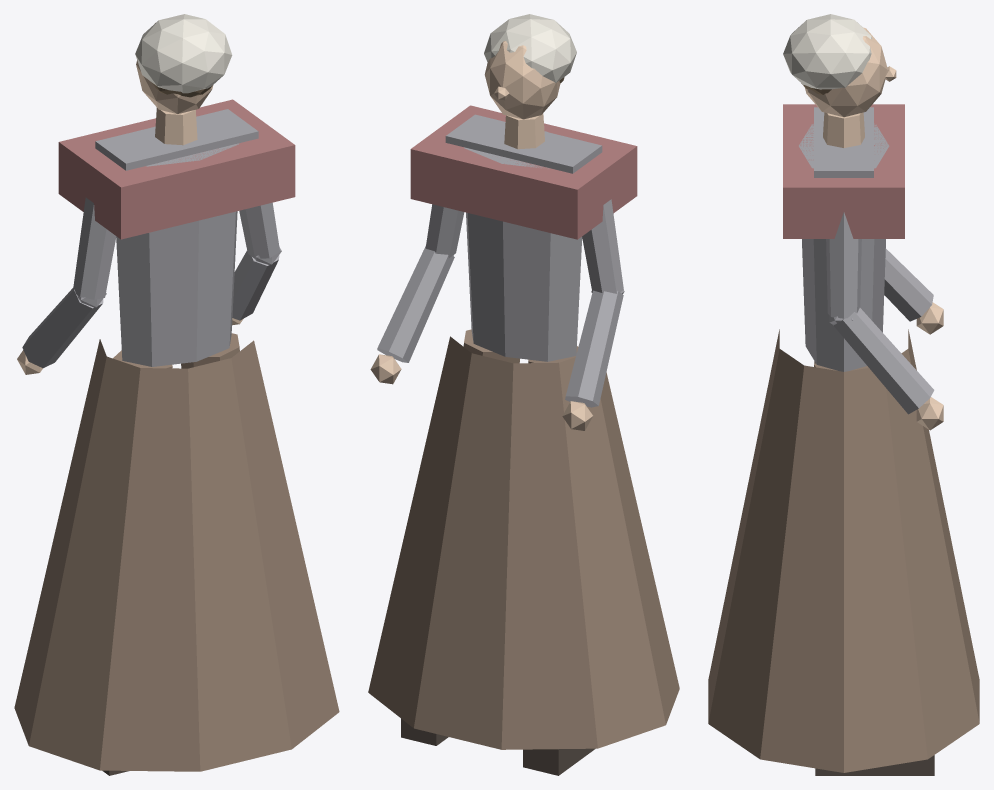
The model's file is townswoman_standing.glb.
The picture shows the model from 3 angles, left to right: view 1: azimuth 30°, elevation 25°; view 2: azimuth 150°, elevation 25°; view 3: azimuth 270°, elevation 25°; orthographic projection. The views are drawn at different scales.
Visible parts, largest first — view 1: skirt_brown, shawl_grey, shawl, linen, skin; view 2: skirt_brown, shawl_grey, shawl, skin, linen, boot; view 3: skirt_brown, shawl_grey, shawl, skin, linen, boot.
Boxes of the visible parts, x1,y1,x2,y2 form: skirt_brown: (14, 333, 339, 771); shawl_grey: (22, 109, 281, 368); shawl: (58, 99, 295, 239); linen: (135, 14, 232, 93); skin: (17, 22, 243, 374); skirt_brown: (368, 329, 679, 749); shawl_grey: (377, 114, 624, 407); shawl: (410, 105, 637, 239); skin: (370, 41, 592, 430); linen: (484, 14, 576, 82); boot: (401, 718, 595, 775); skirt_brown: (708, 329, 979, 772); shawl_grey: (799, 107, 934, 414); shawl: (783, 104, 904, 238); skin: (805, 27, 943, 430); linen: (783, 14, 872, 89); boot: (815, 755, 934, 775).
Size of the model in its own units: 0.7144 by 1.68 by 0.5775.
